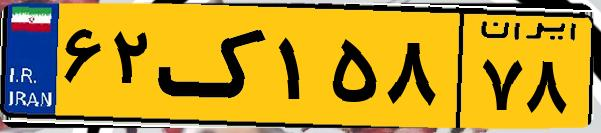1: (270, 28, 330, 110)
2: (110, 28, 158, 98)
5: (330, 28, 385, 110)
6: (57, 26, 110, 100)
7: (475, 38, 525, 113)
8: (385, 28, 445, 110), (525, 38, 570, 115)
ک: (158, 12, 270, 120)
